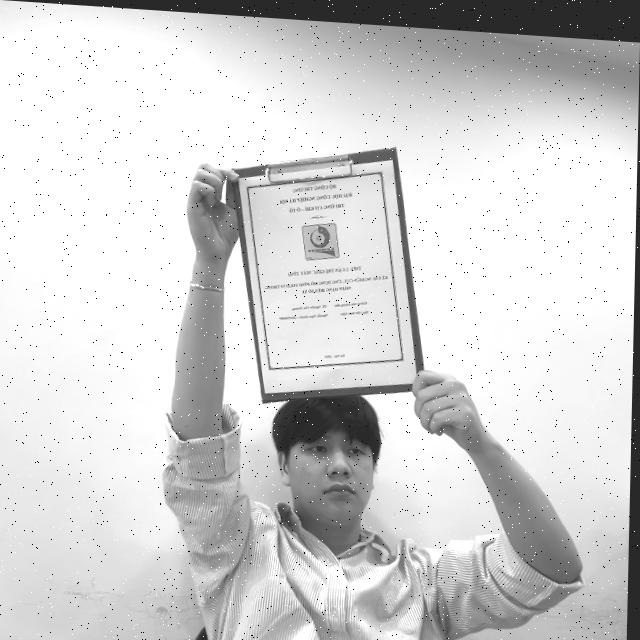document: (238, 160, 417, 394)
face: (291, 416, 370, 531)
